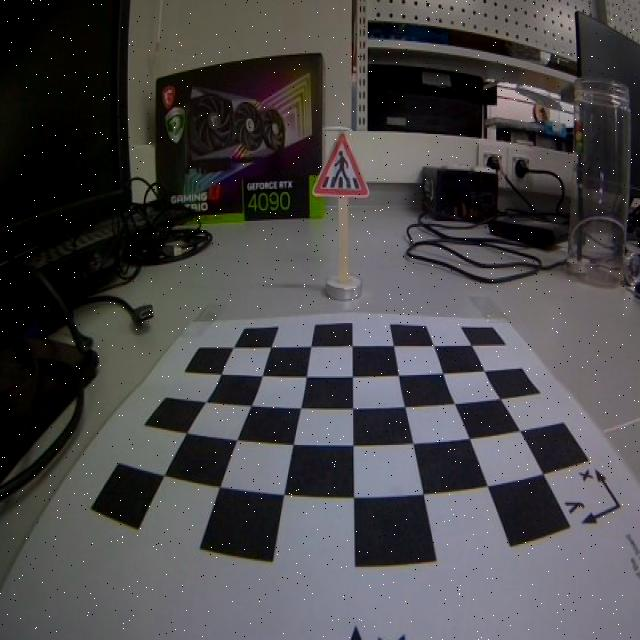Rambu Penyebrangan: (312, 133, 369, 195)
